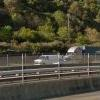Tree: (15, 0, 100, 39)
